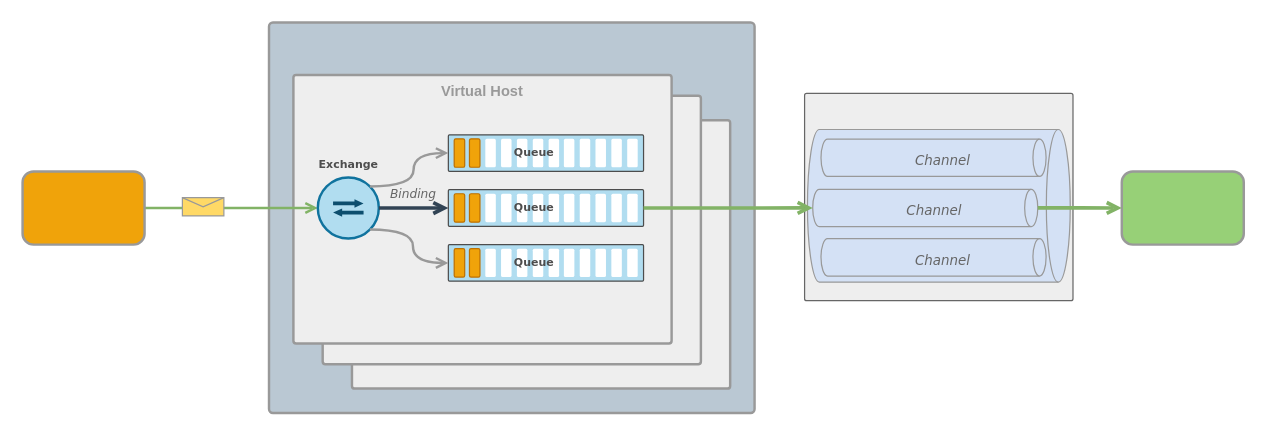
Some shapes in this 1265 by 434 pixel diagram are drawn without their labels. The box of each missing label's shape, as (x1, y1, x2, y2) in pixels:
BROKER (RabbitMQ): (267, 21, 755, 414)
Connection: (803, 92, 1073, 301)
CONSUMER: (1120, 170, 1244, 245)
Message: (181, 196, 224, 216)
PRODUCER: (21, 170, 145, 245)
